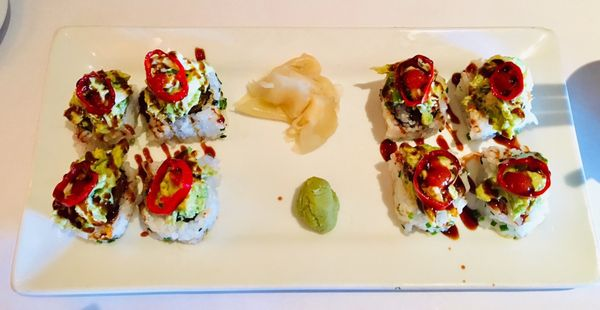sandwich: (563, 58, 600, 277)
